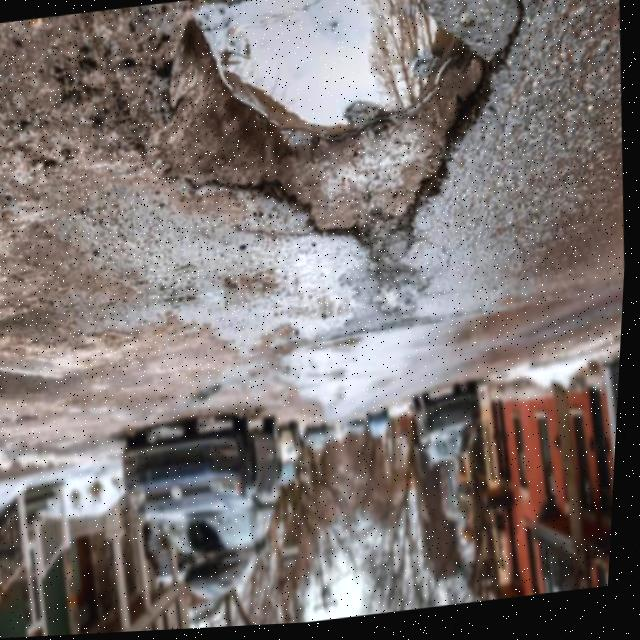Pothole: (138, 0, 551, 302)
